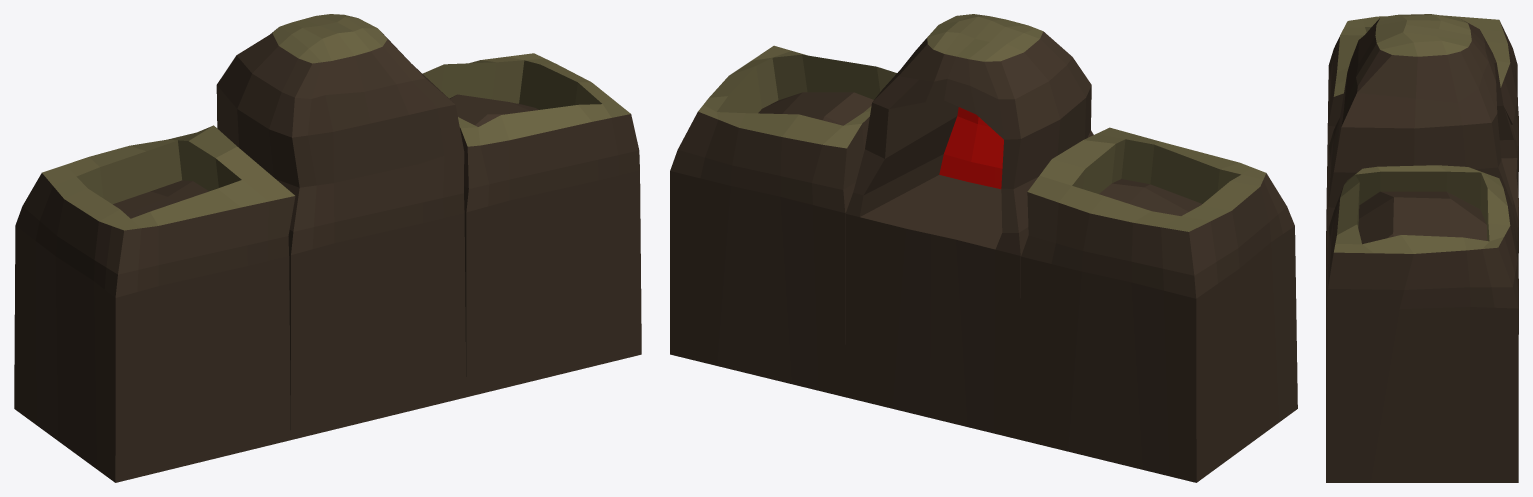
Rendered from EnemyBaseTile.fbx.
3 views of the same model, side by side, from view 1: azimuth 30°, elevation 25°; view 2: azimuth 150°, elevation 25°; view 3: azimuth 270°, elevation 25° (orthographic). The views are drawn at different scales.
Parts seen in each view (by area): view 1: EnemyBaseTile; view 2: EnemyBaseTile; view 3: EnemyBaseTile.
Boxes of the visible parts, bbox=[...] form: EnemyBaseTile: bbox=[14, 14, 641, 482]; EnemyBaseTile: bbox=[670, 14, 1297, 482]; EnemyBaseTile: bbox=[1326, 14, 1518, 482].
Bounding box in the file's own units: 301 × 193 × 100.
